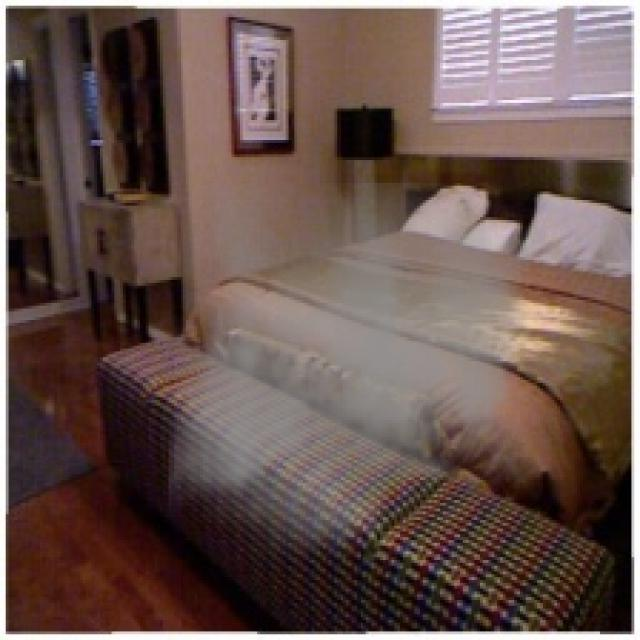smoke: (168, 183, 532, 568)
